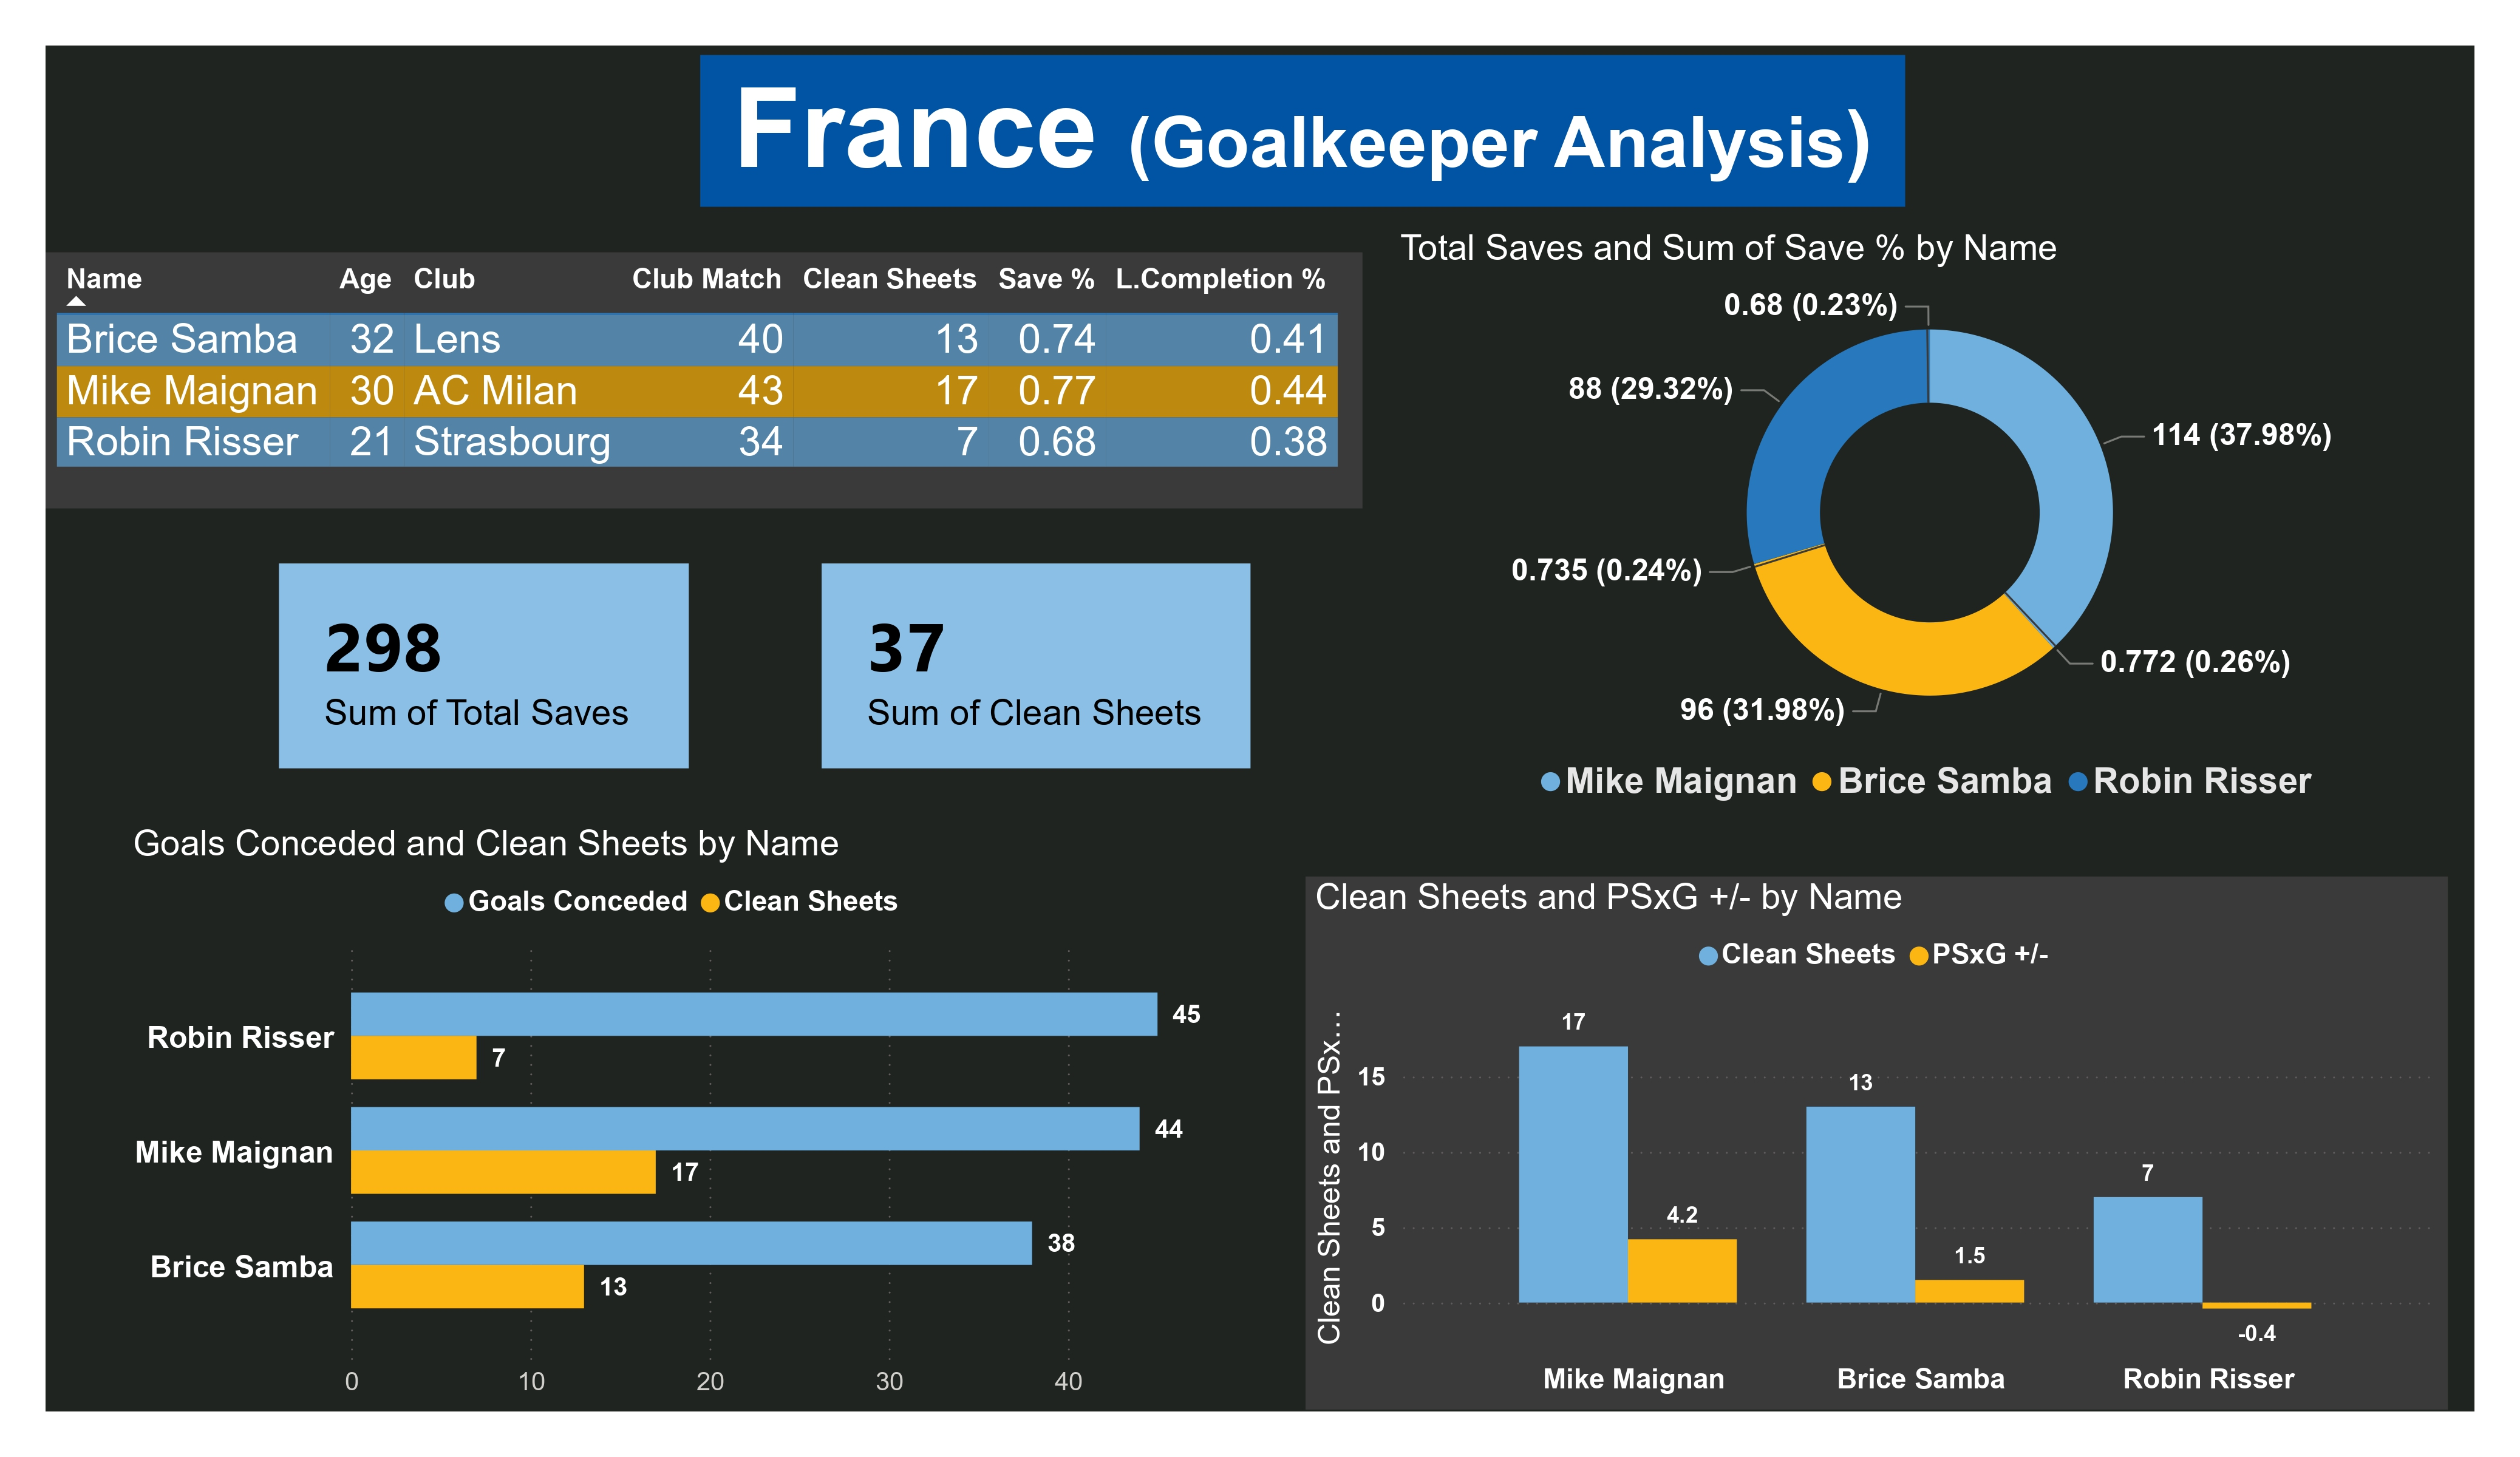

This screenshot's page, from the dashboard's own definition file:
{"tool":"powerbi","page":{"name":"Goalkeeper","canvas":[1280,720],"ordinal":3},"visuals":[{"type":"slicer","fields":{"Values":["Sheet1.Position"]},"box":[995.9,522.4,246.5,181.2],"z":0},{"type":"textbox","box":[345.2,4.7,635.3,80.4],"z":1000},{"type":"donutChart","fields":{"Category":["Sheet1.Name"],"Y":["Sum(Sheet1.Total Saves)","Sum(Sheet1.Save %)"]},"box":[709.4,96.2,567.5,313.7],"z":2000},{"type":"cardVisual","fields":{"Data":["Sum(Sheet1.Clean Sheets)"]},"box":[403.5,268,236.5,118.2],"z":3000},{"type":"cardVisual","fields":{"Data":["Sum(Sheet1.Total Saves)"]},"box":[118.2,268,227,118.2],"z":4000},{"type":"tableEx","fields":{"Values":["Sheet1.Name","Sum(Sheet1.Age)","Sheet1.Club","Sum(Sheet1.Club Match)","Sum(Sheet1.Clean Sheets)","Sum(Sheet1.Save %)","Sum(Sheet1.Launch Completion %)"]},"box":[0,108.8,693.6,135.6],"z":5000},{"type":"clusteredBarChart","fields":{"Category":["Sheet1.Name"],"Y":["Sum(Sheet1.Goals Conceded)","Sum(Sheet1.Clean Sheets)"]},"box":[41,409.9,581.7,310.5],"z":6000},{"type":"clusteredColumnChart","fields":{"Category":["Sheet1.Name"],"Y":["Sum(Sheet1.Clean Sheets)","Sum(Sheet1.PSxG +/-)"]},"box":[663.6,438.2,602.2,280.6],"z":7000}]}

Visuals, with their boxes on the page's 1280x720 design canvas (x1, y1, x2, y2). These are canvas units, not pixel positions in the 2520x1457 screenshot, which may show the page scaled, cropped or inside an application window:
slicer - Sheet1.Position: bbox=(996, 522, 1242, 704)
textbox: bbox=(345, 5, 980, 85)
donutChart - Sheet1.Name x Sum(Sheet1.Total Saves): bbox=(709, 96, 1277, 410)
cardVisual - Sum(Sheet1.Clean Sheets): bbox=(404, 268, 640, 386)
cardVisual - Sum(Sheet1.Total Saves): bbox=(118, 268, 345, 386)
tableEx - Sheet1.Name x Sum(Sheet1.Age): bbox=(0, 109, 694, 244)
clusteredBarChart - Sheet1.Name x Sum(Sheet1.Goals Conceded): bbox=(41, 410, 623, 720)
clusteredColumnChart - Sheet1.Name x Sum(Sheet1.Clean Sheets): bbox=(664, 438, 1266, 719)
